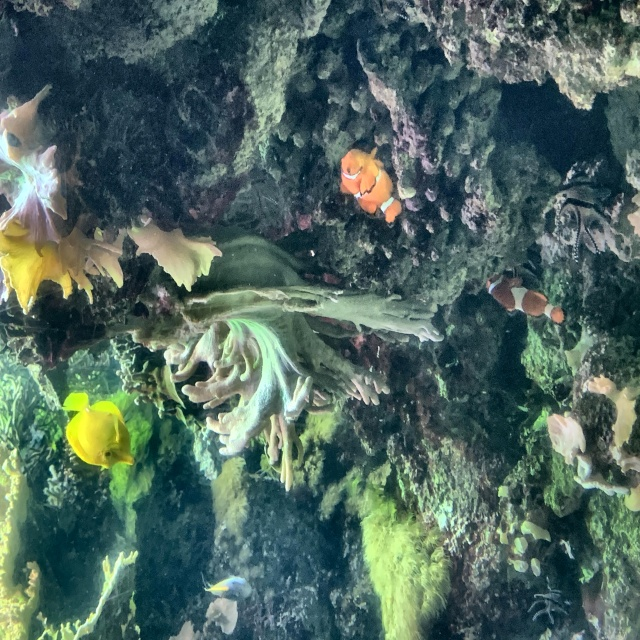fish: (61, 390, 135, 471), (336, 143, 405, 225), (483, 268, 567, 326), (200, 569, 255, 605)
